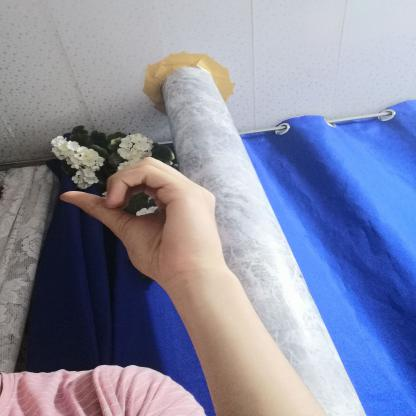WAW: (41, 145, 239, 294)
